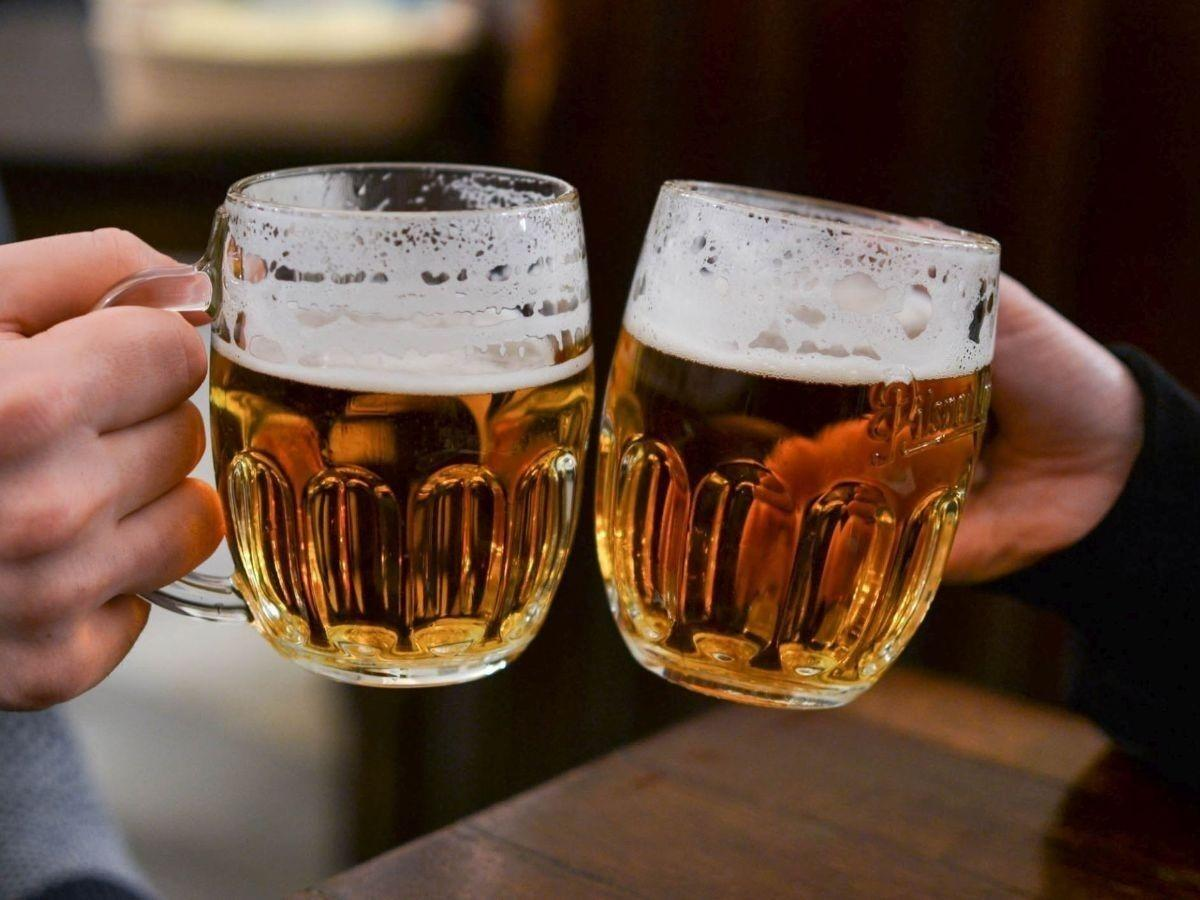glass-mug: (87, 153, 609, 697), (586, 175, 1009, 717)
